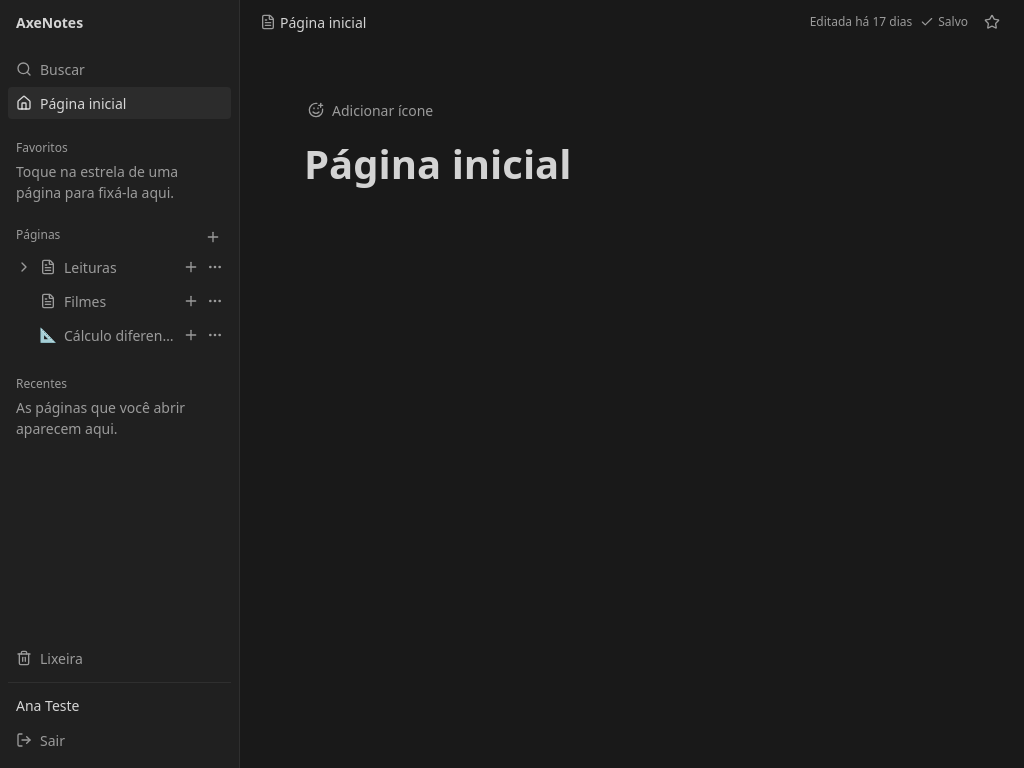
Test case: abrir a busca › opens with the visible "Buscar" button
Click the button "Buscar": [120, 69] box [8,53,231,85]
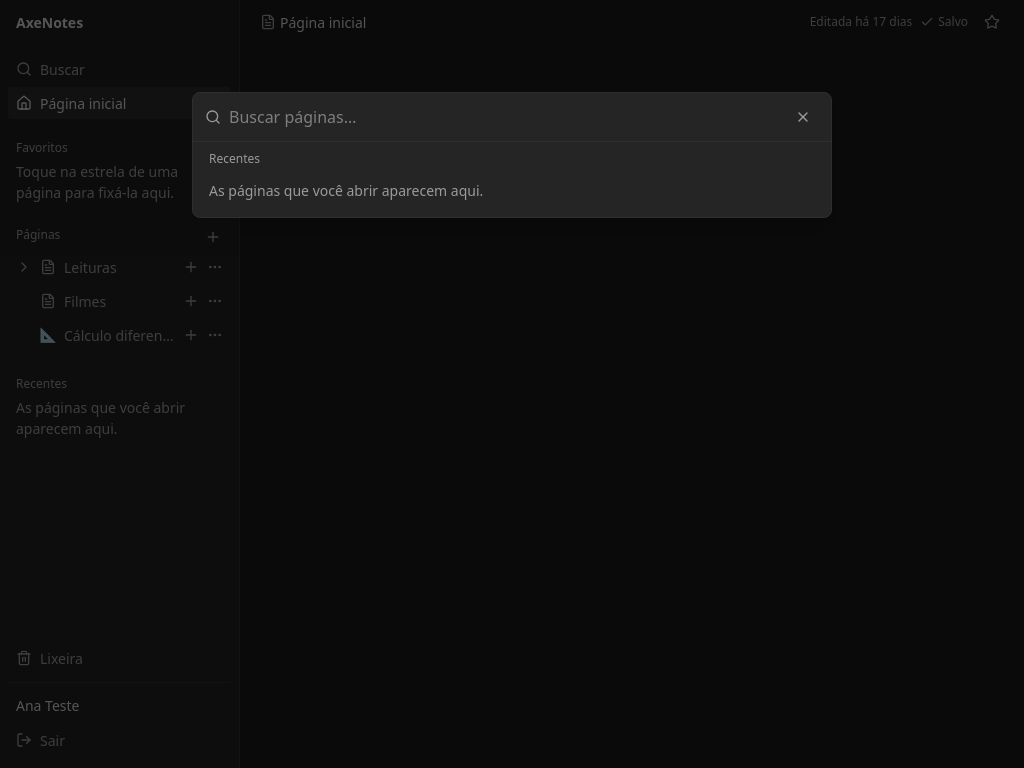
Expected: the dialog named "Buscar páginas" is shown, [192,92,832,218]
